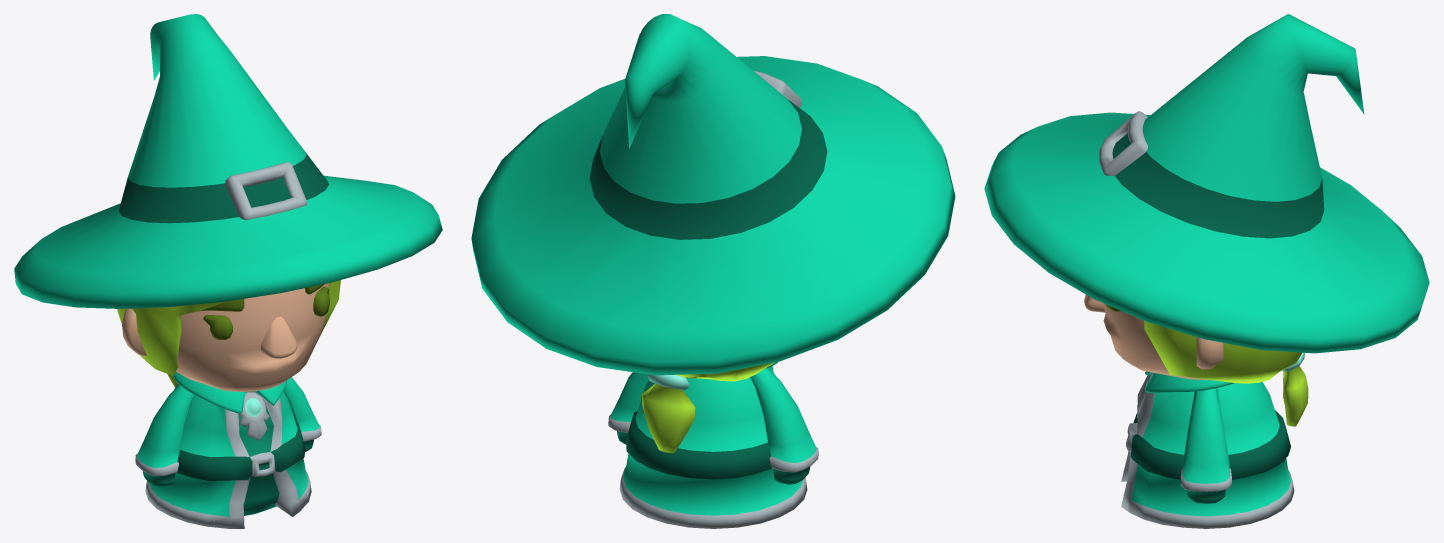
File: mage74.gltf
3 views of the same model, side by side, from view 1: azimuth 30°, elevation 25°; view 2: azimuth 150°, elevation 25°; view 3: azimuth 270°, elevation 25° (orthographic). The views are drawn at different scales.
Visible parts, largest first — view 1: character_mageHat, character_mageBody, character_mageHead, character_mageArmRight, character_mageHair, character_mageArnLeft; view 2: character_mageHat, character_mageBody, character_mageArmRight, character_mageHair, character_mageArnLeft; view 3: character_mageHat, character_mageBody, character_mageHair, character_mageArnLeft, character_mageHead.
Boxes of the visible parts, x1=… form: character_mageHat: x1=14, y1=14, x2=442, y2=308; character_mageBody: x1=145, y1=372, x2=311, y2=528; character_mageHead: x1=122, y1=283, x2=329, y2=391; character_mageArmRight: x1=135, y1=384, x2=194, y2=487; character_mageHair: x1=117, y1=280, x2=340, y2=387; character_mageArnLeft: x1=284, y1=377, x2=321, y2=451; character_mageHat: x1=471, y1=14, x2=955, y2=375; character_mageBody: x1=619, y1=362, x2=807, y2=528; character_mageArmRight: x1=750, y1=368, x2=818, y2=484; character_mageHair: x1=641, y1=362, x2=774, y2=453; character_mageArnLeft: x1=608, y1=372, x2=648, y2=444; character_mageHat: x1=984, y1=14, x2=1429, y2=353; character_mageBody: x1=1121, y1=371, x2=1294, y2=528; character_mageHair: x1=1144, y1=320, x2=1308, y2=426; character_mageArnLeft: x1=1180, y1=388, x2=1231, y2=503; character_mageHead: x1=1084, y1=294, x2=1223, y2=380.
Bounding box in the file's own units: 2.1 × 2.44 × 2.05.
